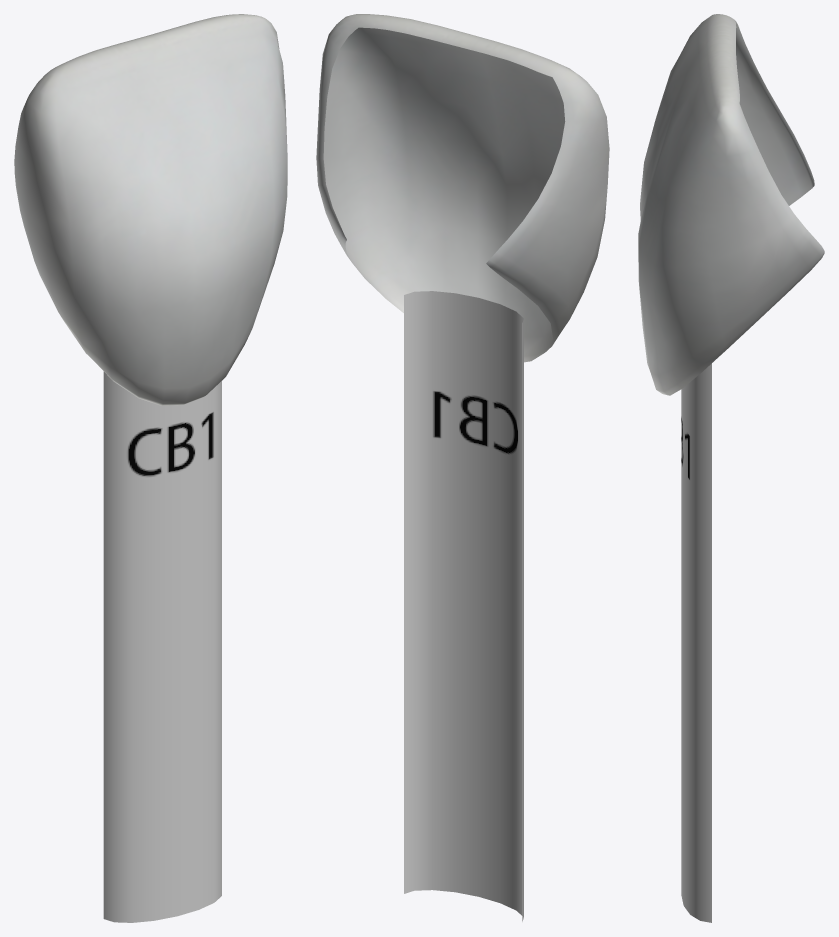
The picture shows the model from 3 angles, left to right: view 1: azimuth 30°, elevation 25°; view 2: azimuth 150°, elevation 25°; view 3: azimuth 270°, elevation 25°; orthographic projection. The views are drawn at different scales.
Parts seen in each view (by area): view 1: Tab; view 2: Tab; view 3: Tab.
Boxes of the visible parts, x1,y1,x2,y2 form: Tab: (14,14,287,922); Tab: (316,14,609,921); Tab: (638,14,824,922).
Bounding box in the file's own units: 0.00859 × 0.0273 × 0.00547.
1 material, 1 textured.
